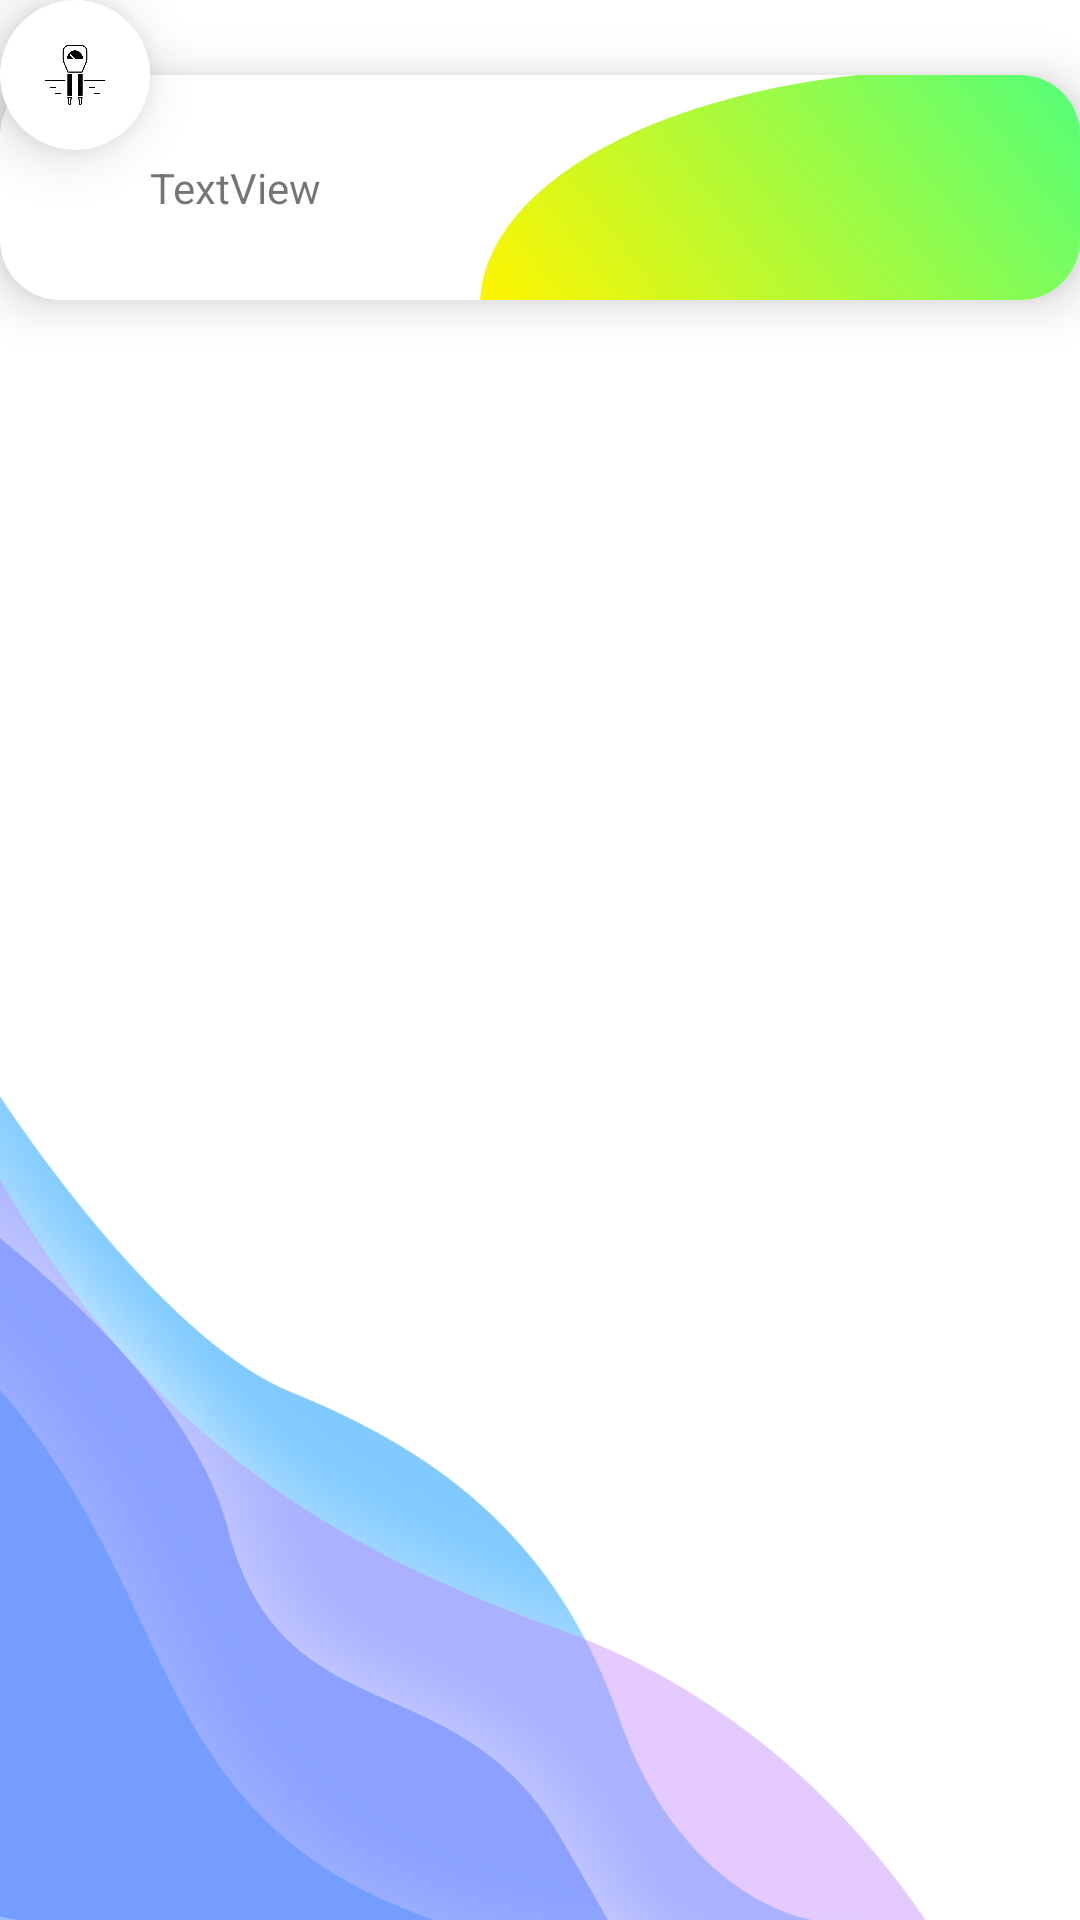

Screen size 1080px×1920px. Icon name, then its center in pixels as (x,y):
soil moisture: (75,75)
